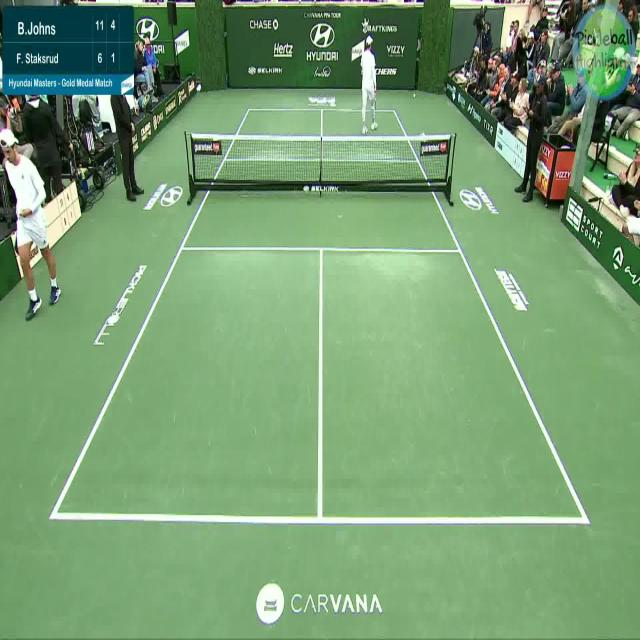ball: (410, 88, 419, 100)
